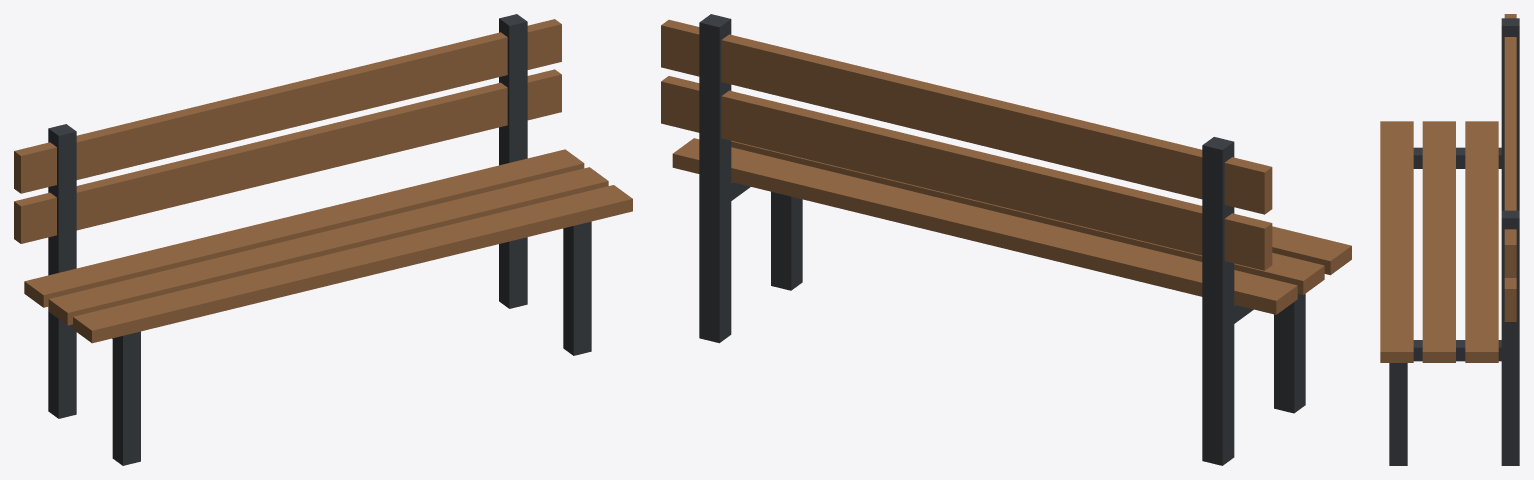
Rendered from bench.gltf.
3 renders of one model, left to right at view 1: azimuth 30°, elevation 25°; view 2: azimuth 150°, elevation 25°; view 3: azimuth 270°, elevation 25°, orthographic. The views are drawn at different scales.
Visible parts, largest first — view 1: bench-wood, bench-metal; view 2: bench-wood, bench-metal; view 3: bench-wood, bench-metal.
Part boxes in pixels (<box>): bench-wood: <box>14,19,632,343</box>; bench-metal: <box>48,14,591,465</box>; bench-wood: <box>661,19,1351,314</box>; bench-metal: <box>699,14,1305,465</box>; bench-wood: <box>1380,14,1516,362</box>; bench-metal: <box>1389,18,1519,465</box>.
Size of the model in its own units: 1.8 by 0.9 by 0.46.
